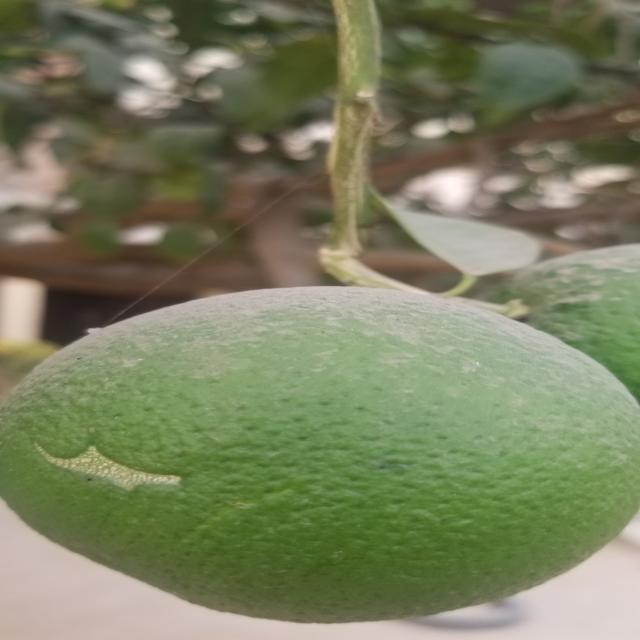Unripe: (3, 289, 640, 624)
